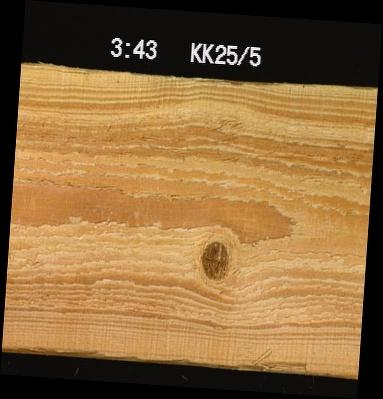sound_knot: (199, 238, 232, 280)
wave: (1, 347, 310, 369), (96, 71, 293, 85)
